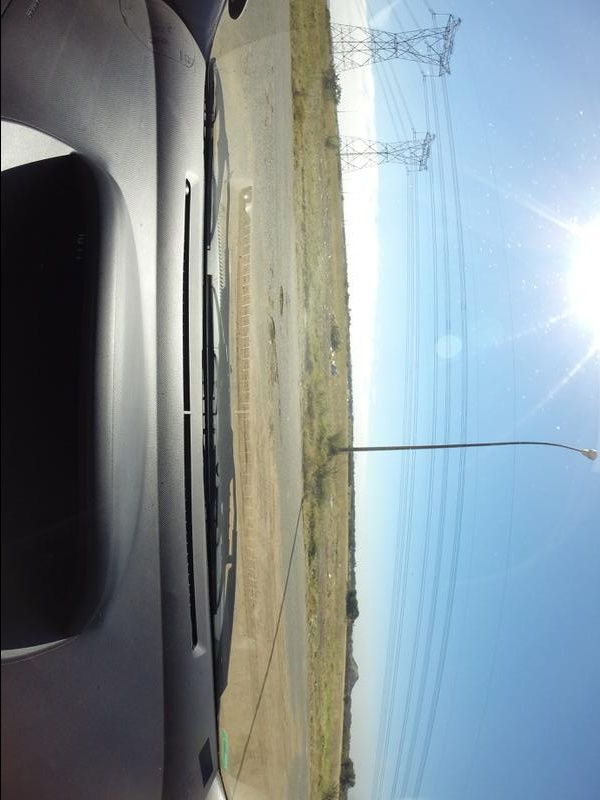pothole: (266, 317, 277, 384), (279, 284, 287, 321), (274, 399, 281, 418)
